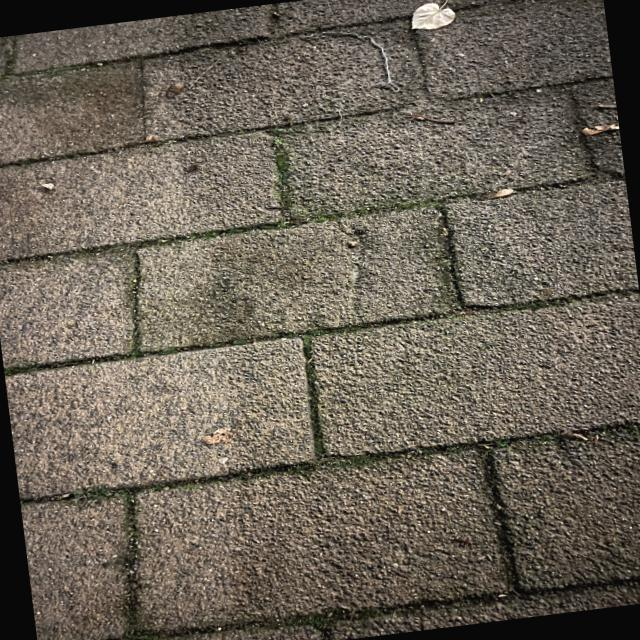leaves: (392, 0, 456, 37)
pavement: (0, 0, 638, 619)
weedling: (44, 462, 517, 639)
